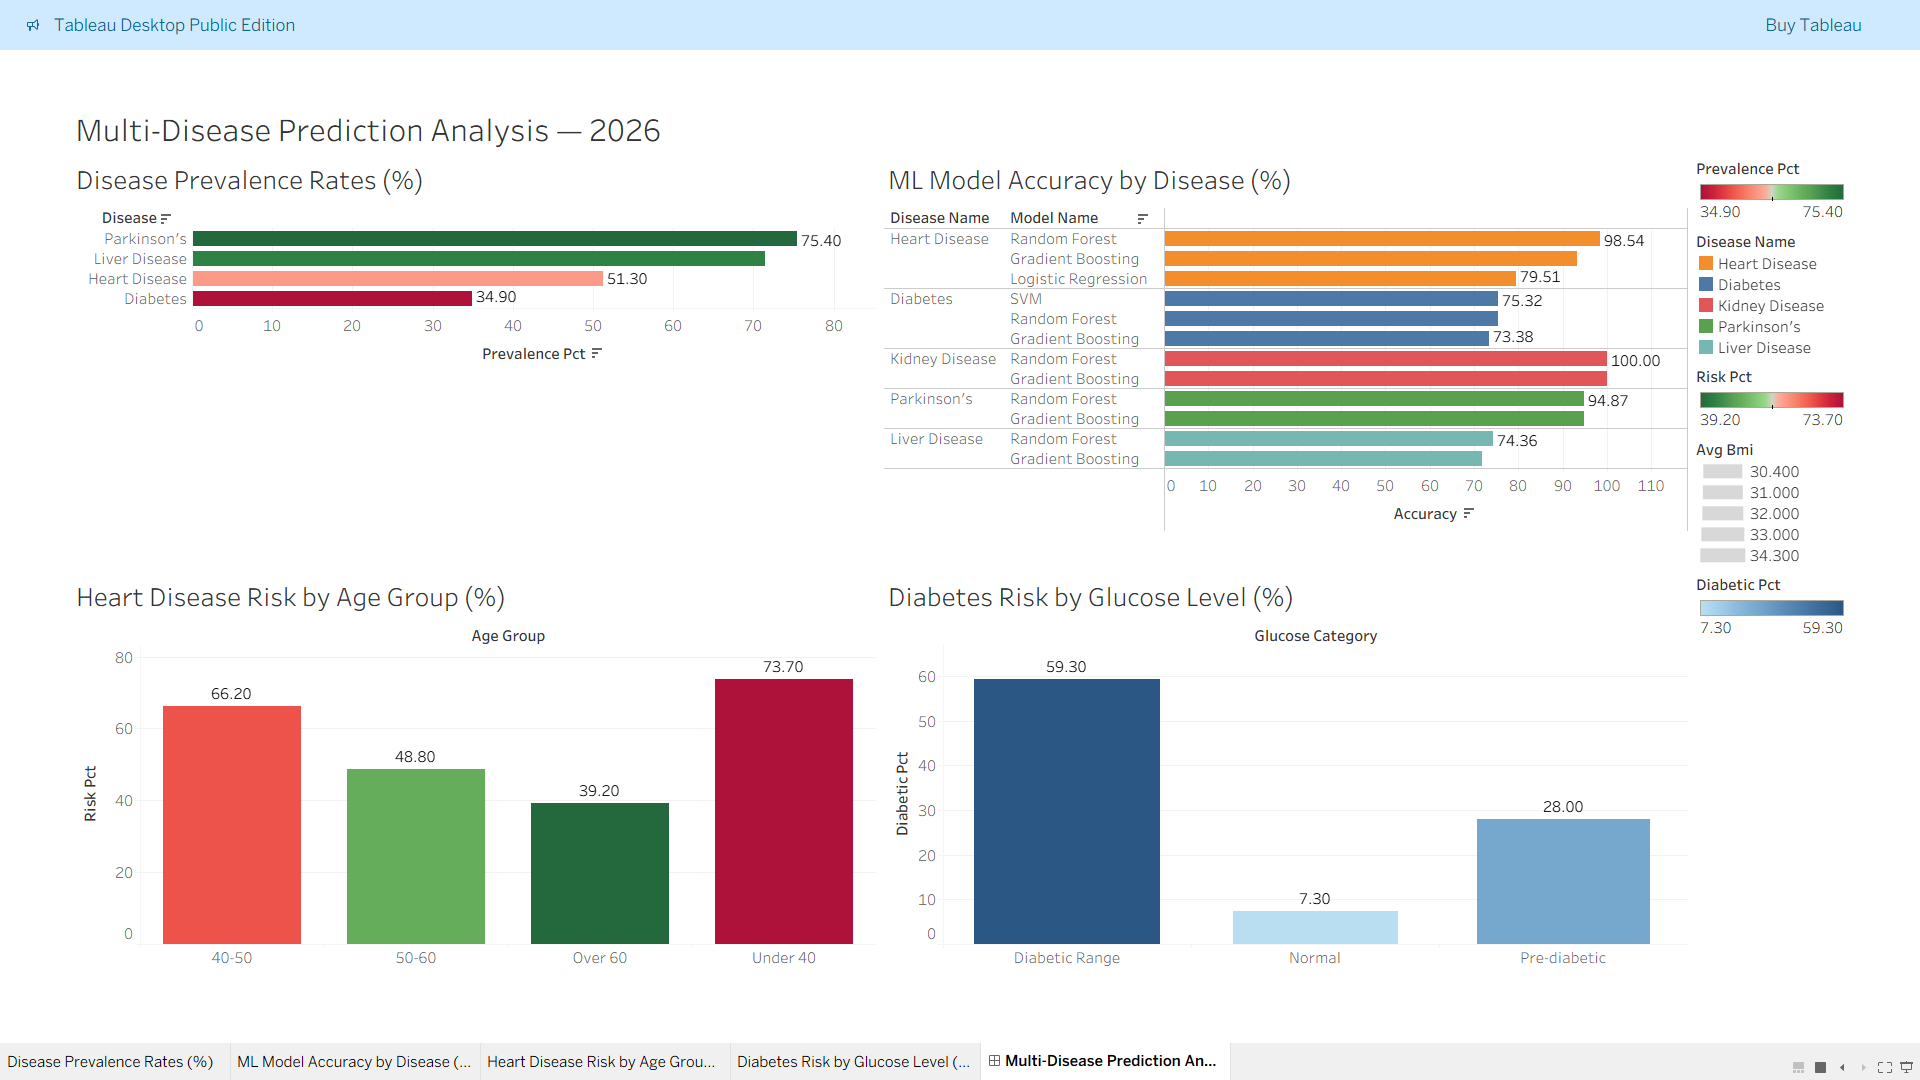

This screenshot's page, from the dashboard's own definition file:
{"tool":"tableau","page":{"name":"Multi-Disease Prediction Analysis — 2026","canvas":[1000,1000],"units":"permille","ordinal":0},"visuals":[{"type":"title","box":[4.8,9.3,990.3,58.1]},{"type":"worksheet","title":"Disease Prevalence Rates (%)","mark":"Bar","rows":["disease"],"cols":["prevalence_pct"],"box":[4.8,67.4,446.9,461.7]},{"type":"worksheet","title":"ML Model Accuracy by Disease (%)","mark":"Bar","rows":["disease_name","model_name"],"cols":["accuracy"],"box":[451.7,67.4,446.9,461.7]},{"type":"legend","title":"Disease Prevalence Rates (%)","param":"[federated.0ddwtil09v48np109lc541opq9tz].[sum:prevalence_pct:qk]","box":[898.6,67.4,96.6,84.8]},{"type":"legend","title":"ML Model Accuracy by Disease (%)","param":"[federated.1xrs5m50dxcwgn132bfkp1ov3dzc].[none:disease_name:nk]","box":[898.6,152.1,96.6,156.8]},{"type":"legend","title":"Heart Disease Risk by Age Group (%)","param":"[federated.1xd5lvy0dptumr13vsjyh1kv1t3r].[sum:risk_pct:qk]","box":[898.6,308.9,96.6,84.8]},{"type":"legend","title":"Diabetes Risk by Glucose Level (%)","param":"[federated.0ne6936039qan819u8k5e06pewgj].[sum:avg_bmi:qk]","box":[898.6,393.7,96.6,156.8]},{"type":"worksheet","title":"Heart Disease Risk by Age Group (%)","mark":"Bar","rows":["risk_pct"],"cols":["age_group"],"box":[4.8,529,446.9,461.7]},{"type":"worksheet","title":"Diabetes Risk by Glucose Level (%)","mark":"Bar","rows":["diabetic_pct"],"cols":["glucose_category"],"box":[451.7,529,446.9,461.7]},{"type":"legend","title":"Diabetes Risk by Glucose Level (%)","param":"[federated.0ne6936039qan819u8k5e06pewgj].[sum:diabetic_pct:qk]","box":[898.6,550.5,96.6,84.8]}]}

Visuals, with their boxes on the dashboard's canvas, which has no fixed pixel size, in thousandths of its width and height (x1, y1, x2, y2). These are canvas units, not pixel positions in the 1920x1080 screenshot, which may show the page scaled, cropped or inside an application window:
title: 5 9 995 67
"Disease Prevalence Rates (%)" worksheet (Bar marks): 5 67 452 529
"ML Model Accuracy by Disease (%)" worksheet (Bar marks): 452 67 899 529
"Disease Prevalence Rates (%)" legend: 899 67 995 152
"ML Model Accuracy by Disease (%)" legend: 899 152 995 309
"Heart Disease Risk by Age Group (%)" legend: 899 309 995 394
"Diabetes Risk by Glucose Level (%)" legend: 899 394 995 550
"Heart Disease Risk by Age Group (%)" worksheet (Bar marks): 5 529 452 991
"Diabetes Risk by Glucose Level (%)" worksheet (Bar marks): 452 529 899 991
"Diabetes Risk by Glucose Level (%)" legend: 899 550 995 635
